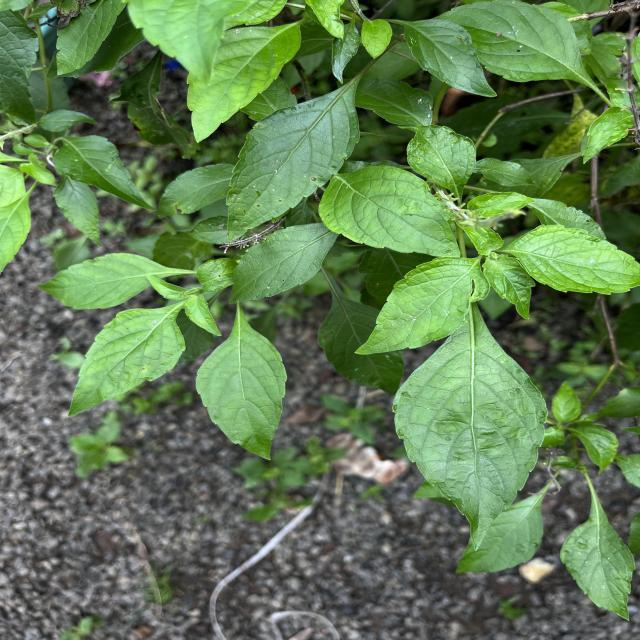Ocimum gratissimum: (387, 314, 550, 555), (219, 77, 365, 250), (180, 20, 304, 146), (314, 162, 468, 260), (352, 254, 494, 360), (429, 0, 601, 86), (193, 312, 290, 464), (64, 304, 188, 422), (557, 492, 640, 625), (499, 222, 640, 298), (225, 218, 340, 308), (32, 250, 186, 312), (398, 16, 501, 102), (50, 132, 158, 212)
